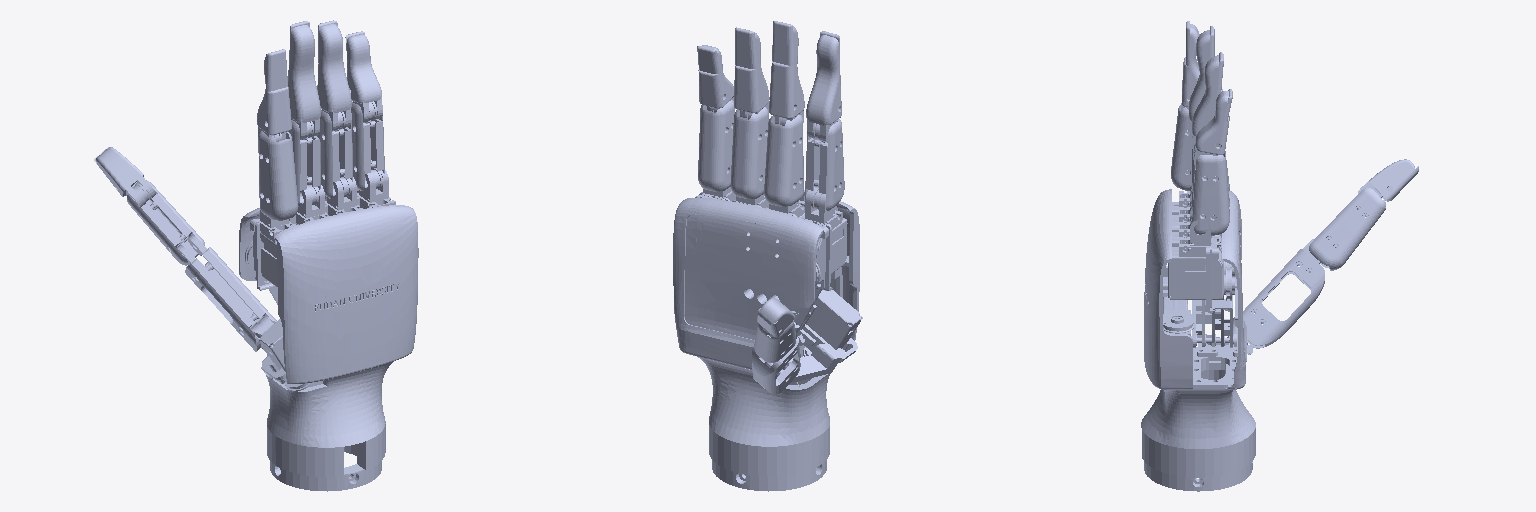
URDF robot description (folding_hand_right):
<?xml version="1.0" encoding="utf-8"?>
<!-- This URDF was automatically created by SolidWorks to URDF Exporter! Originally created by Stephen Brawner (brawner@gmail.com) 
     Commit Version: 1.6.0-4-g7f85cfe  Build Version: 1.6.7995.38578
     For more information, please see http://wiki.ros.org/sw_urdf_exporter -->
<robot
  name="folding_hand_right">
  <link
    name="base_link">
    <inertial>
      <origin
        xyz="0.00276118404102101 -0.00285774223692806 0.0615605479553047"
        rpy="0 0 0" />
      <mass
        value="0.103375780582453" />
      <inertia
        ixx="3.11593509491742E-05"
        ixy="-5.70146156440556E-08"
        ixz="1.42660749888158E-06"
        iyy="4.5003240518971E-05"
        iyz="-3.58111402378398E-07"
        izz="3.85374175725486E-05" />
    </inertial>
    <visual>
      <origin
        xyz="0 0 0"
        rpy="0 0 0" />
      <geometry>
        <mesh
          filename="package://folding_hand_right/meshes/base_link.STL" />
      </geometry>
      <material
        name="">
        <color
          rgba="0.792156862745098 0.819607843137255 0.933333333333333 1" />
      </material>
    </visual>
    <collision>
      <origin
        xyz="0 0 0"
        rpy="0 0 0" />
      <geometry>
        <mesh
          filename="package://folding_hand_right/meshes/base_link.STL" />
      </geometry>
    </collision>
  </link>
  <link
    name="ff_1">
    <inertial>
      <origin
        xyz="0.0174276113143449 -0.0025880306270465 -0.051026172322912"
        rpy="0 0 0" />
      <mass
        value="0.00800116450103895" />
      <inertia
        ixx="6.16375907626336E-07"
        ixy="-6.4465157640548E-09"
        ixz="1.25720337679154E-07"
        iyy="7.00497772286988E-07"
        iyz="1.88857364929768E-08"
        izz="2.41679032104396E-07" />
    </inertial>
    <visual>
      <origin
        xyz="0 0 0"
        rpy="0 0 0" />
      <geometry>
        <mesh
          filename="package://folding_hand_right/meshes/ff_1.STL" />
      </geometry>
      <material
        name="">
        <color
          rgba="0.792156862745098 0.819607843137255 0.933333333333333 1" />
      </material>
    </visual>
    <collision>
      <origin
        xyz="0 0 0"
        rpy="0 0 0" />
      <geometry>
        <mesh
          filename="package://folding_hand_right/meshes/ff_1.STL" />
      </geometry>
    </collision>
  </link>
  <joint
    name="ff_1_joint"
    type="revolute">
    <origin
      xyz="-0.0079 0.003355 0.064"
      rpy="3.1416 0 3.1416" />
    <parent
      link="base_link" />
    <child
      link="ff_1" />
    <axis
      xyz="0 1 0" />
    <limit
      lower="0"
      upper="0"
      effort="0"
      velocity="0" />
  </joint>
  <link
    name="ff_2">
    <inertial>
      <origin
        xyz="0.0158422609179284 0.00109998639127984 -0.00505523801864458"
        rpy="0 0 0" />
      <mass
        value="0.00368074206825828" />
      <inertia
        ixx="1.74635425164805E-07"
        ixy="2.38315368278493E-12"
        ixz="-3.49081105120789E-08"
        iyy="4.75377212779051E-07"
        iyz="1.16864797751418E-12"
        izz="4.70138993869148E-07" />
    </inertial>
    <visual>
      <origin
        xyz="0 0 0"
        rpy="0 0 0" />
      <geometry>
        <mesh
          filename="package://folding_hand_right/meshes/ff_2.STL" />
      </geometry>
      <material
        name="">
        <color
          rgba="0.792156862745098 0.819607843137255 0.933333333333333 1" />
      </material>
    </visual>
    <collision>
      <origin
        xyz="0 0 0"
        rpy="0 0 0" />
      <geometry>
        <mesh
          filename="package://folding_hand_right/meshes/ff_2.STL" />
      </geometry>
    </collision>
  </link>
  <joint
    name="ff_2_joint"
    type="revolute">
    <origin
      xyz="0.020121 -0.0025 -0.075996"
      rpy="-1.5708 1.5417 0" />
    <parent
      link="ff_1" />
    <child
      link="ff_2" />
    <axis
      xyz="0 1 0" />
    <limit
      lower="0"
      upper="0"
      effort="0"
      velocity="0" />
  </joint>
  <link
    name="ff_3">
    <inertial>
      <origin
        xyz="0.0178367732030435 0.000999402970096486 -0.0022372319913799"
        rpy="0 0 0" />
      <mass
        value="0.00404959762041178" />
      <inertia
        ixx="9.09224979928097E-08"
        ixy="-4.82248654592416E-11"
        ixz="7.00619451923977E-08"
        iyy="6.26639694894412E-07"
        iyz="9.43528798856071E-12"
        izz="6.23321071228333E-07" />
    </inertial>
    <visual>
      <origin
        xyz="0 0 0"
        rpy="0 0 0" />
      <geometry>
        <mesh
          filename="package://folding_hand_right/meshes/ff_3.STL" />
      </geometry>
      <material
        name="">
        <color
          rgba="0.792156862745098 0.819607843137255 0.933333333333333 1" />
      </material>
    </visual>
    <collision>
      <origin
        xyz="0 0 0"
        rpy="0 0 0" />
      <geometry>
        <mesh
          filename="package://folding_hand_right/meshes/ff_3.STL" />
      </geometry>
    </collision>
  </link>
  <joint
    name="ff_3_joint"
    type="revolute">
    <origin
      xyz="0.035 0.0003 0"
      rpy="0 0 0" />
    <parent
      link="ff_2" />
    <child
      link="ff_3" />
    <axis
      xyz="0 1 0" />
    <limit
      lower="0"
      upper="0"
      effort="0"
      velocity="0" />
  </joint>
  <link
    name="mf_1">
    <inertial>
      <origin
        xyz="0.0158422601570955 0.00129998597816512 -0.0050552380419905"
        rpy="0 0 0" />
      <mass
        value="0.00368074201522147" />
      <inertia
        ixx="1.74635406284412E-07"
        ixy="2.36816117250817E-12"
        ixz="-3.49080977696694E-08"
        iyy="4.75377216872989E-07"
        iyz="1.15571431970362E-12"
        izz="4.70139016490944E-07" />
    </inertial>
    <visual>
      <origin
        xyz="0 0 0"
        rpy="0 0 0" />
      <geometry>
        <mesh
          filename="package://folding_hand_right/meshes/mf_1.STL" />
      </geometry>
      <material
        name="">
        <color
          rgba="0.792156862745098 0.819607843137255 0.933333333333333 1" />
      </material>
    </visual>
    <collision>
      <origin
        xyz="0 0 0"
        rpy="0 0 0" />
      <geometry>
        <mesh
          filename="package://folding_hand_right/meshes/mf_1.STL" />
      </geometry>
    </collision>
  </link>
  <joint
    name="mf_1_joint"
    type="revolute">
    <origin
      xyz="-0.009 0.000855 0.14055"
      rpy="1.5708 -1.5708 0" />
    <parent
      link="base_link" />
    <child
      link="mf_1" />
    <axis
      xyz="0 1 0" />
    <limit
      lower="0"
      upper="0"
      effort="0"
      velocity="0" />
  </joint>
  <link
    name="mf_2">
    <inertial>
      <origin
        xyz="0.0216169098719861 0.000904419663191184 -0.00217715663925655"
        rpy="0 0 0" />
      <mass
        value="0.00502242897630229" />
      <inertia
        ixx="1.06662106139777E-07"
        ixy="-2.62438383107056E-11"
        ixz="6.43096806730193E-08"
        iyy="9.59144418477493E-07"
        iyz="1.02314537477542E-11"
        izz="9.60297532986314E-07" />
    </inertial>
    <visual>
      <origin
        xyz="0 0 0"
        rpy="0 0 0" />
      <geometry>
        <mesh
          filename="package://folding_hand_right/meshes/mf_2.STL" />
      </geometry>
      <material
        name="">
        <color
          rgba="0.792156862745098 0.819607843137255 0.933333333333333 1" />
      </material>
    </visual>
    <collision>
      <origin
        xyz="0 0 0"
        rpy="0 0 0" />
      <geometry>
        <mesh
          filename="package://folding_hand_right/meshes/mf_2.STL" />
      </geometry>
    </collision>
  </link>
  <joint
    name="mf_2_joint"
    type="revolute">
    <origin
      xyz="0.035 0.0006 0"
      rpy="0 0 0" />
    <parent
      link="mf_1" />
    <child
      link="mf_2" />
    <axis
      xyz="0 1 0" />
    <limit
      lower="0"
      upper="0"
      effort="0"
      velocity="0" />
  </joint>
  <link
    name="rf_1">
    <inertial>
      <origin
        xyz="-0.0159906401844529 -0.0105600115967382 -0.051516391608172"
        rpy="0 0 0" />
      <mass
        value="0.00800969565306044" />
      <inertia
        ixx="6.31281723456019E-07"
        ixy="-1.7553170210036E-08"
        ixz="-1.110391110627E-07"
        iyy="6.95805064467012E-07"
        iyz="-4.70356947692738E-08"
        izz="2.40136855524572E-07" />
    </inertial>
    <visual>
      <origin
        xyz="0 0 0"
        rpy="0 0 0" />
      <geometry>
        <mesh
          filename="package://folding_hand_right/meshes/rf_1.STL" />
      </geometry>
      <material
        name="">
        <color
          rgba="0.792156862745098 0.819607843137255 0.933333333333333 1" />
      </material>
    </visual>
    <collision>
      <origin
        xyz="0 0 0"
        rpy="0 0 0" />
      <geometry>
        <mesh
          filename="package://folding_hand_right/meshes/rf_1.STL" />
      </geometry>
    </collision>
  </link>
  <joint
    name="rf_1_joint"
    type="revolute">
    <origin
      xyz="-0.0079 0.012155 0.064"
      rpy="3.1416 0 3.1416" />
    <parent
      link="base_link" />
    <child
      link="rf_1" />
    <axis
      xyz="0 1 0" />
    <limit
      lower="0"
      upper="0"
      effort="0"
      velocity="0" />
  </joint>
  <link
    name="rf_2">
    <inertial>
      <origin
        xyz="0.0156935934157024 0.00109998713025121 -0.00549943217420239"
        rpy="0 0 0" />
      <mass
        value="0.0036807366322041" />
      <inertia
        ixx="1.72904144168496E-07"
        ixy="2.35909662601054E-12"
        ixz="-2.65330974524355E-08"
        iyy="4.75376819501147E-07"
        iyz="1.019027089931E-12"
        izz="4.71869255601023E-07" />
    </inertial>
    <visual>
      <origin
        xyz="0 0 0"
        rpy="0 0 0" />
      <geometry>
        <mesh
          filename="package://folding_hand_right/meshes/rf_2.STL" />
      </geometry>
      <material
        name="">
        <color
          rgba="0.792156862745098 0.819607843137255 0.933333333333333 1" />
      </material>
    </visual>
    <collision>
      <origin
        xyz="0 0 0"
        rpy="0 0 0" />
      <geometry>
        <mesh
          filename="package://folding_hand_right/meshes/rf_2.STL" />
      </geometry>
    </collision>
  </link>
  <joint
    name="rf_2_joint"
    type="revolute">
    <origin
      xyz="-0.0161 -0.0113 -0.07655"
      rpy="1.5708 1.5708 0" />
    <parent
      link="rf_1" />
    <child
      link="rf_2" />
    <axis
      xyz="0 1 0" />
    <limit
      lower="0"
      upper="0"
      effort="0"
      velocity="0" />
  </joint>
  <link
    name="rf_3">
    <inertial>
      <origin
        xyz="0.018265888885159 0.000904759770016556 -0.00370738520761145"
        rpy="0 0 0" />
      <mass
        value="0.00499342460902789" />
      <inertia
        ixx="1.15277519199432E-07"
        ixy="-1.4536149238844E-11"
        ixz="9.70157274743489E-08"
        iyy="7.52048559497963E-07"
        iyz="1.03136971593429E-11"
        izz="7.39864170899251E-07" />
    </inertial>
    <visual>
      <origin
        xyz="0 0 0"
        rpy="0 0 0" />
      <geometry>
        <mesh
          filename="package://folding_hand_right/meshes/rf_3.STL" />
      </geometry>
      <material
        name="">
        <color
          rgba="0.792156862745098 0.819607843137255 0.933333333333333 1" />
      </material>
    </visual>
    <collision>
      <origin
        xyz="0 0 0"
        rpy="0 0 0" />
      <geometry>
        <mesh
          filename="package://folding_hand_right/meshes/rf_3.STL" />
      </geometry>
    </collision>
  </link>
  <joint
    name="rf_3_joint"
    type="revolute">
    <origin
      xyz="0.034986 0.0004 -0.00098578"
      rpy="0 0 0" />
    <parent
      link="rf_2" />
    <child
      link="rf_3" />
    <axis
      xyz="0 1 0" />
    <limit
      lower="0"
      upper="0"
      effort="0"
      velocity="0" />
  </joint>
  <link
    name="lf_1">
    <inertial>
      <origin
        xyz="-0.0312849510272932 -0.0140312936490971 -0.0502369136670625"
        rpy="0 0 0" />
      <mass
        value="0.00836089652615313" />
      <inertia
        ixx="6.91312748704694E-07"
        ixy="-6.39699011750689E-08"
        ixz="-2.5850142077528E-07"
        iyy="9.37745860657525E-07"
        iyz="-8.6360796776642E-08"
        izz="4.62303222321355E-07" />
    </inertial>
    <visual>
      <origin
        xyz="0 0 0"
        rpy="0 0 0" />
      <geometry>
        <mesh
          filename="package://folding_hand_right/meshes/lf_1.STL" />
      </geometry>
      <material
        name="">
        <color
          rgba="0.792156862745098 0.819607843137255 0.933333333333333 1" />
      </material>
    </visual>
    <collision>
      <origin
        xyz="0 0 0"
        rpy="0 0 0" />
      <geometry>
        <mesh
          filename="package://folding_hand_right/meshes/lf_1.STL" />
      </geometry>
    </collision>
  </link>
  <joint
    name="lf_1_joint"
    type="revolute">
    <origin
      xyz="-0.0079 0.016555 0.064"
      rpy="3.1416 0 3.1416" />
    <parent
      link="base_link" />
    <child
      link="lf_1" />
    <axis
      xyz="0 1 0" />
    <limit
      lower="0"
      upper="0"
      effort="0"
      velocity="0" />
  </joint>
  <link
    name="lf_2">
    <inertial>
      <origin
        xyz="0.0155519171680911 0.000899988158834936 -0.00588816520024507"
        rpy="0 0 0" />
      <mass
        value="0.0036807319075368" />
      <inertia
        ixx="1.71769313017517E-07"
        ixy="2.34728194457574E-12"
        ixz="-1.9064715603389E-08"
        iyy="4.75376475908662E-07"
        iyz="8.99381155350294E-13"
        izz="4.73003192113371E-07" />
    </inertial>
    <visual>
      <origin
        xyz="0 0 0"
        rpy="0 0 0" />
      <geometry>
        <mesh
          filename="package://folding_hand_right/meshes/lf_2.STL" />
      </geometry>
      <material
        name="">
        <color
          rgba="0.792156862745098 0.819607843137255 0.933333333333333 1" />
      </material>
    </visual>
    <collision>
      <origin
        xyz="0 0 0"
        rpy="0 0 0" />
      <geometry>
        <mesh
          filename="package://folding_hand_right/meshes/lf_2.STL" />
      </geometry>
    </collision>
  </link>
  <joint
    name="lf_2_joint"
    type="revolute">
    <origin
      xyz="-0.0329 -0.0157 -0.07655"
      rpy="1.5708 1.5708 0" />
    <parent
      link="lf_1" />
    <child
      link="lf_2" />
    <axis
      xyz="0 1 0" />
    <limit
      lower="0"
      upper="0"
      effort="0"
      velocity="0" />
  </joint>
  <link
    name="lf_3">
    <inertial>
      <origin
        xyz="0.0136373816869327 0.000999137783326609 -0.00495198647252044"
        rpy="0 0 0" />
      <mass
        value="0.00323429827183613" />
      <inertia
        ixx="9.71311360656645E-08"
        ixy="4.50669930661153E-11"
        ixz="8.69893323416159E-08"
        iyy="3.22738473259161E-07"
        iyz="4.30383366834879E-14"
        izz="2.95824799844708E-07" />
    </inertial>
    <visual>
      <origin
        xyz="0 0 0"
        rpy="0 0 0" />
      <geometry>
        <mesh
          filename="package://folding_hand_right/meshes/lf_3.STL" />
      </geometry>
      <material
        name="">
        <color
          rgba="0.792156862745098 0.819607843137255 0.933333333333333 1" />
      </material>
    </visual>
    <collision>
      <origin
        xyz="0 0 0"
        rpy="0 0 0" />
      <geometry>
        <mesh
          filename="package://folding_hand_right/meshes/lf_3.STL" />
      </geometry>
    </collision>
  </link>
  <joint
    name="lf_3_joint"
    type="revolute">
    <origin
      xyz="0.034951 -0.0001 -0.0018559"
      rpy="0 0 0" />
    <parent
      link="lf_2" />
    <child
      link="lf_3" />
    <axis
      xyz="0 1 0" />
    <limit
      lower="0"
      upper="0"
      effort="0"
      velocity="0" />
  </joint>
  <link
    name="th_1">
    <inertial>
      <origin
        xyz="0.0137524610845284 -0.00388692531484706 -0.00399815691934079"
        rpy="0 0 0" />
      <mass
        value="0.0085862447602651" />
      <inertia
        ixx="4.86393167138675E-07"
        ixy="4.6229396005095E-08"
        ixz="-8.47912552979972E-08"
        iyy="4.66658280466237E-07"
        iyz="-6.28916094633383E-08"
        izz="5.71403929448824E-07" />
    </inertial>
    <visual>
      <origin
        xyz="0 0 0"
        rpy="0 0 0" />
      <geometry>
        <mesh
          filename="package://folding_hand_right/meshes/th_1.STL" />
      </geometry>
      <material
        name="">
        <color
          rgba="0.792156862745098 0.819607843137255 0.933333333333333 1" />
      </material>
    </visual>
    <collision>
      <origin
        xyz="0 0 0"
        rpy="0 0 0" />
      <geometry>
        <mesh
          filename="package://folding_hand_right/meshes/th_1.STL" />
      </geometry>
    </collision>
  </link>
  <joint
    name="th_1_joint"
    type="revolute">
    <origin
      xyz="-0.0079 -0.001045 0.064"
      rpy="3.1416 0 3.1416" />
    <parent
      link="base_link" />
    <child
      link="th_1" />
    <axis
      xyz="0 1 0" />
    <limit
      lower="0"
      upper="0"
      effort="0"
      velocity="0" />
  </joint>
  <link
    name="th_2">
    <inertial>
      <origin
        xyz="0.0127004115106669 0.000899925159810369 0.021103551602678"
        rpy="0 0 0" />
      <mass
        value="0.00484700233885311" />
      <inertia
        ixx="7.68869476994104E-07"
        ixy="1.99869683283446E-12"
        ixz="-5.3038314992888E-07"
        iyy="1.55377159306767E-06"
        iyz="3.63688574140799E-12"
        izz="1.02745220346099E-06" />
    </inertial>
    <visual>
      <origin
        xyz="0 0 0"
        rpy="0 0 0" />
      <geometry>
        <mesh
          filename="package://folding_hand_right/meshes/th_2.STL" />
      </geometry>
      <material
        name="">
        <color
          rgba="0.792156862745098 0.819607843137255 0.933333333333333 1" />
      </material>
    </visual>
    <collision>
      <origin
        xyz="0 0 0"
        rpy="0 0 0" />
      <geometry>
        <mesh
          filename="package://folding_hand_right/meshes/th_2.STL" />
      </geometry>
    </collision>
  </link>
  <joint
    name="th_2_joint"
    type="revolute">
    <origin
      xyz="0.01364 0.02189 -0.0017481"
      rpy="-1.5708 1.0368 0" />
    <parent
      link="th_1" />
    <child
      link="th_2" />
    <axis
      xyz="0 1 0" />
    <limit
      lower="0"
      upper="0"
      effort="0"
      velocity="0" />
  </joint>
  <link
    name="th_3">
    <inertial>
      <origin
        xyz="0.00799399367852193 0.00100001344203523 0.0145817963066114"
        rpy="0 0 0" />
      <mass
        value="0.0036807341199548" />
      <inertia
        ixx="2.80148855351827E-07"
        ixy="-2.89350566213228E-12"
        ixz="-1.4582495236775E-07"
        iyy="4.75376345730277E-07"
        iyz="-8.94722559706633E-13"
        izz="3.64623294368966E-07" />
    </inertial>
    <visual>
      <origin
        xyz="0 0 0"
        rpy="0 0 0" />
      <geometry>
        <mesh
          filename="package://folding_hand_right/meshes/th_3.STL" />
      </geometry>
      <material
        name="">
        <color
          rgba="0.792156862745098 0.819607843137255 0.933333333333333 1" />
      </material>
    </visual>
    <collision>
      <origin
        xyz="0 0 0"
        rpy="0 0 0" />
      <geometry>
        <mesh
          filename="package://folding_hand_right/meshes/th_3.STL" />
      </geometry>
    </collision>
  </link>
  <joint
    name="th_3_joint"
    type="revolute">
    <origin
      xyz="0.036109 -0.0001 0.036072"
      rpy="0 0 0" />
    <parent
      link="th_2" />
    <child
      link="th_3" />
    <axis
      xyz="0 1 0" />
    <limit
      lower="0"
      upper="0"
      effort="0"
      velocity="0" />
  </joint>
  <link
    name="th_4">
    <inertial>
      <origin
        xyz="0.00729876168262759 0.00109078776438153 0.0100298513252921"
        rpy="0 0 0" />
      <mass
        value="0.00281885774752767" />
      <inertia
        ixx="1.52207777642241E-07"
        ixy="2.96890675774017E-12"
        ixz="-5.64354419119026E-08"
        iyy="1.90128277126092E-07"
        iyz="2.99628014574997E-12"
        izz="1.03333952624484E-07" />
    </inertial>
    <visual>
      <origin
        xyz="0 0 0"
        rpy="0 0 0" />
      <geometry>
        <mesh
          filename="package://folding_hand_right/meshes/th_4.STL" />
      </geometry>
      <material
        name="">
        <color
          rgba="0.792156862745098 0.819607843137255 0.933333333333333 1" />
      </material>
    </visual>
    <collision>
      <origin
        xyz="0 0 0"
        rpy="0 0 0" />
      <geometry>
        <mesh
          filename="package://folding_hand_right/meshes/th_4.STL" />
      </geometry>
    </collision>
  </link>
  <joint
    name="th_4_joint"
    type="revolute">
    <origin
      xyz="0.025359 0.0001 0.024123"
      rpy="0 0 0" />
    <parent
      link="th_3" />
    <child
      link="th_4" />
    <axis
      xyz="0 1 0" />
    <limit
      lower="0"
      upper="0"
      effort="0"
      velocity="0" />
  </joint>
</robot>

--- Facts derived from the render (not from the file) ---
Views: 3 orthographic renders of the robot side by side, from view 1: azimuth 30°, elevation 25°; view 2: azimuth 150°, elevation 25°; view 3: azimuth 270°, elevation 25°.
Model folding_hand_right with 16 links and 15 joints (15 revolute), rooted at base_link, posed every joint at zero.
Links seen in each view (by area): view 1: base_link, th_2, ff_2, mf_2, rf_3, ff_3, lf_3, th_3, ff_1, rf_2, lf_2, th_4 (+4 smaller); view 2: base_link, th_1, mf_1, rf_2, ff_3, ff_1, mf_2, lf_2, rf_3, ff_2, lf_3, th_2 (+2 smaller); view 3: base_link, lf_1, th_2, th_3, lf_2, lf_3, ff_2, rf_3, th_4, mf_2, ff_3, th_1 (+2 smaller).
Link boxes in pixels (x1,y1,x2,y2): base_link: [239, 184, 418, 491]; th_2: [177, 234, 276, 351]; ff_2: [258, 131, 297, 220]; mf_2: [288, 21, 320, 139]; rf_3: [317, 20, 351, 130]; ff_3: [257, 49, 291, 141]; lf_3: [345, 31, 382, 122]; th_3: [127, 180, 204, 265]; ff_1: [245, 210, 294, 304]; rf_2: [320, 109, 352, 198]; lf_2: [351, 101, 384, 190]; th_4: [94, 147, 155, 207]; base_link: [673, 190, 859, 491]; th_1: [775, 290, 862, 382]; mf_1: [764, 115, 803, 206]; rf_2: [731, 107, 768, 198]; ff_3: [806, 31, 841, 142]; ff_1: [791, 186, 847, 334]; mf_2: [769, 21, 804, 125]; lf_2: [698, 100, 734, 191]; rf_3: [734, 27, 769, 119]; ff_2: [805, 119, 844, 210]; lf_3: [697, 45, 733, 112]; th_2: [751, 334, 800, 394]; base_link: [1141, 186, 1255, 491]; lf_1: [1168, 216, 1234, 347]; th_2: [1243, 239, 1324, 348]; th_3: [1309, 188, 1385, 270]; lf_2: [1192, 153, 1229, 235]; lf_3: [1194, 89, 1232, 166]; ff_2: [1171, 103, 1191, 190]; rf_3: [1192, 52, 1223, 150]; th_4: [1358, 159, 1418, 201]; mf_2: [1189, 26, 1214, 135]; ff_3: [1182, 21, 1199, 106]; th_1: [1163, 296, 1252, 354].
Size in the robot's own frame: 0.1032 by 0.133 by 0.2266 metres.
Meshes: 16 distinct files referenced, 16 mesh visuals loaded (16 binary STL).
